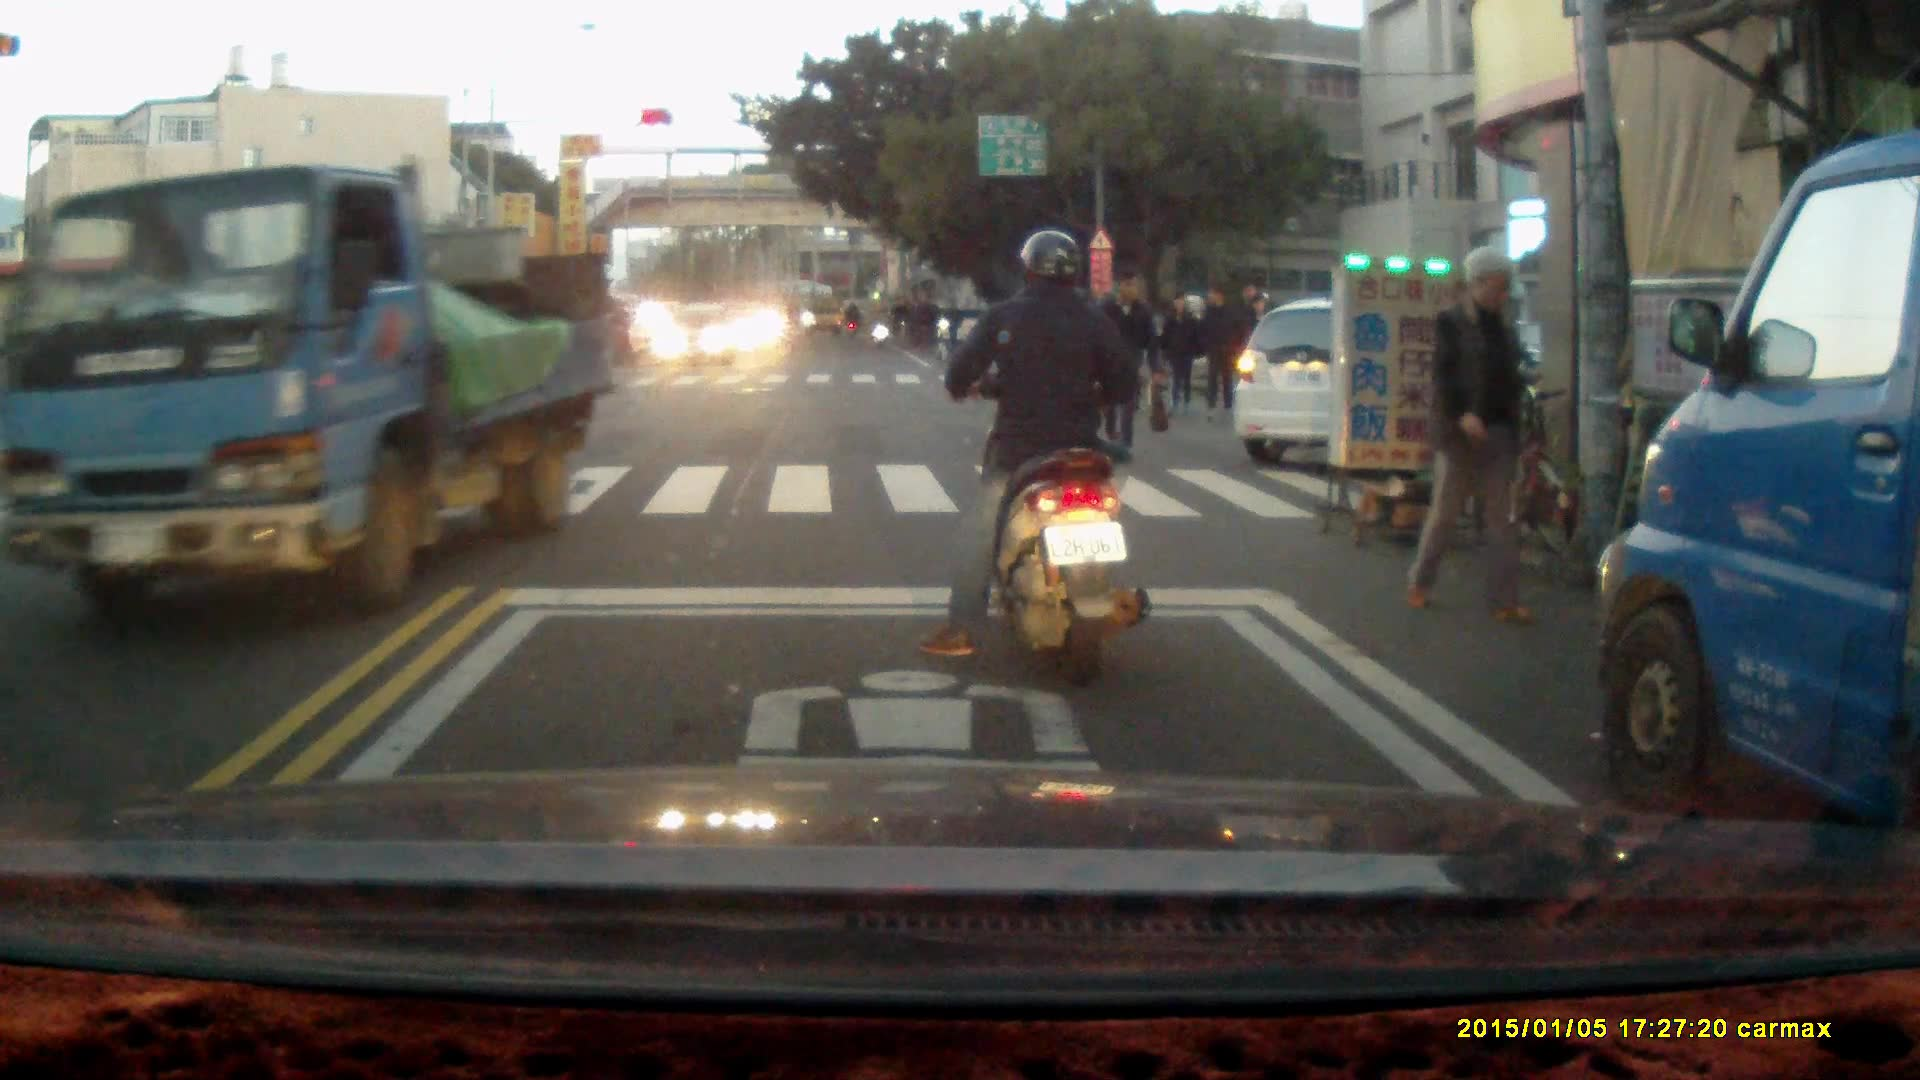pedestrian: (1403, 246, 1544, 624), (1089, 269, 1164, 465), (1158, 284, 1200, 421), (1194, 285, 1236, 419)
rider: (917, 231, 1150, 692), (601, 296, 635, 366), (865, 299, 894, 353)
vehicle: (21, 167, 600, 615), (1596, 120, 1920, 901), (1235, 303, 1533, 462), (656, 301, 735, 369)
